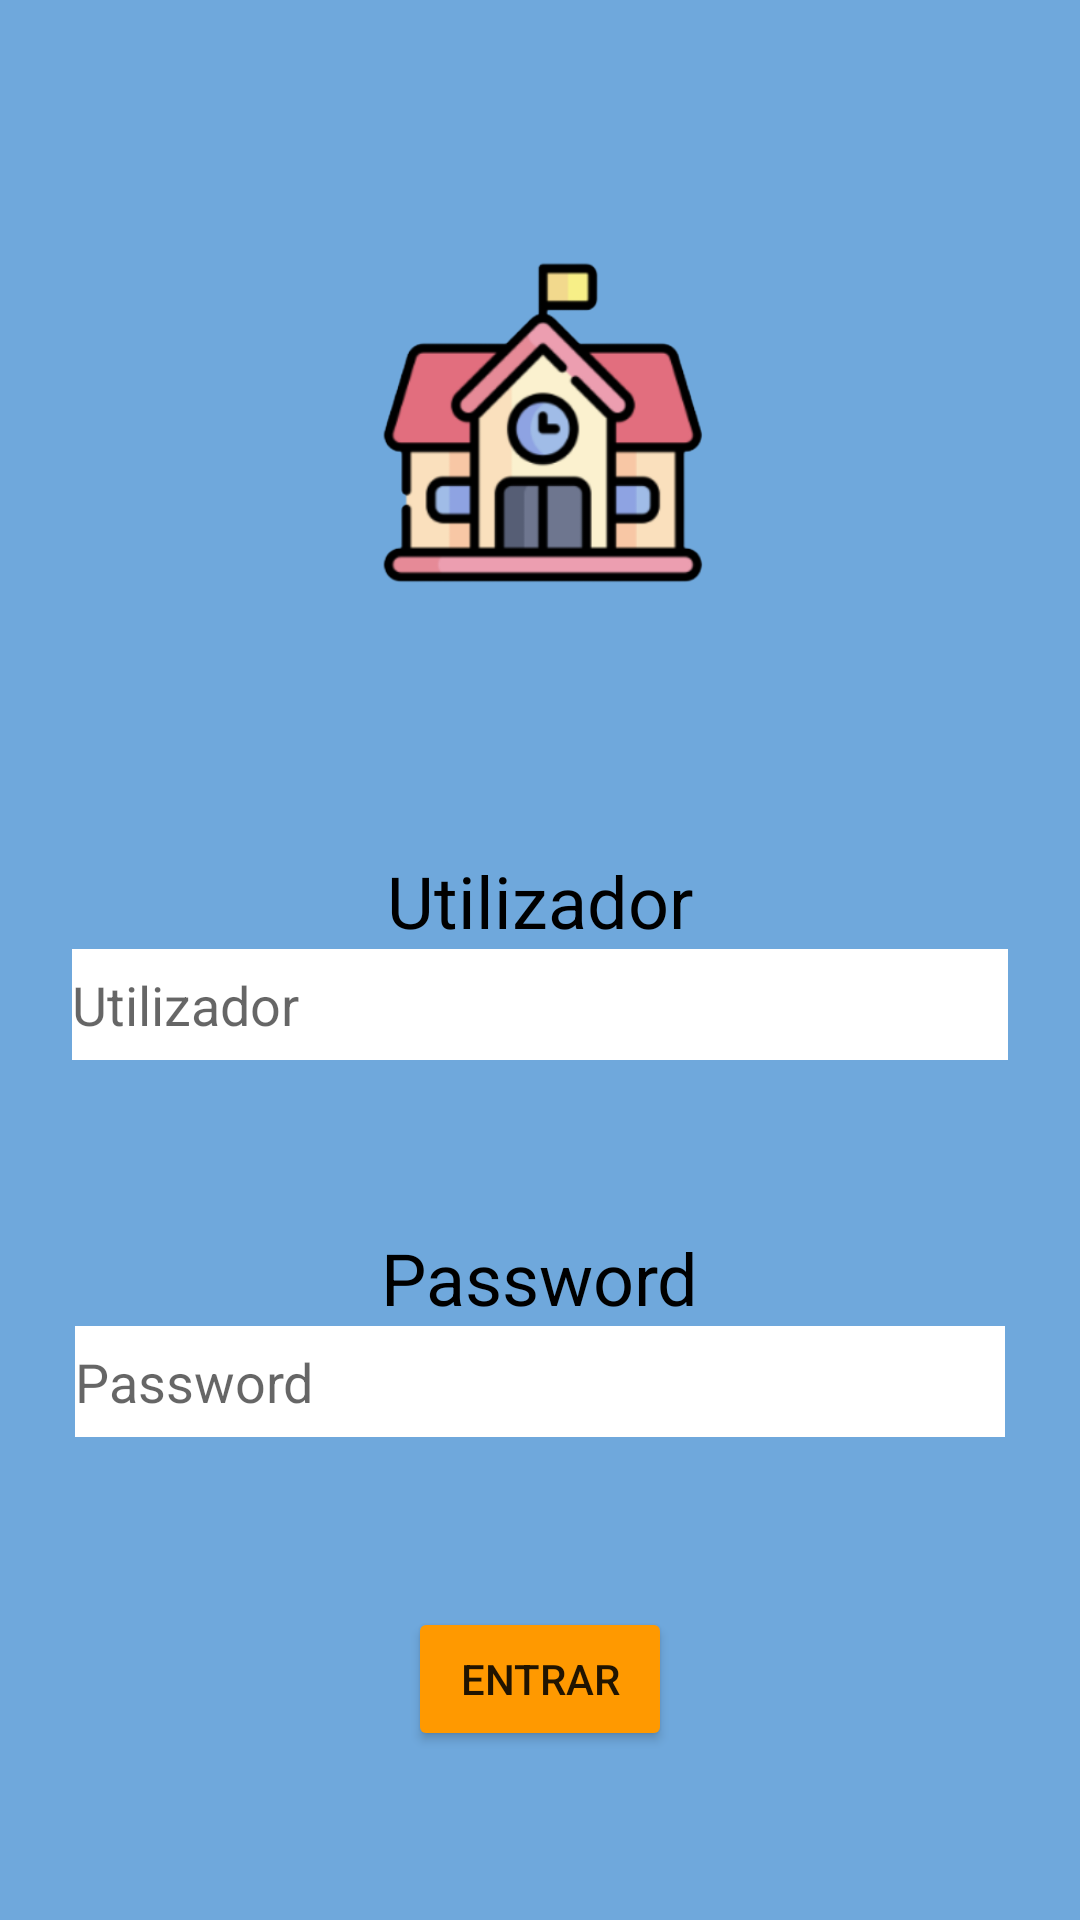

Icons on this 1080px x 1920px Android screen, each with the point to tap as point (x, y):
loginschool: point (542, 422)
